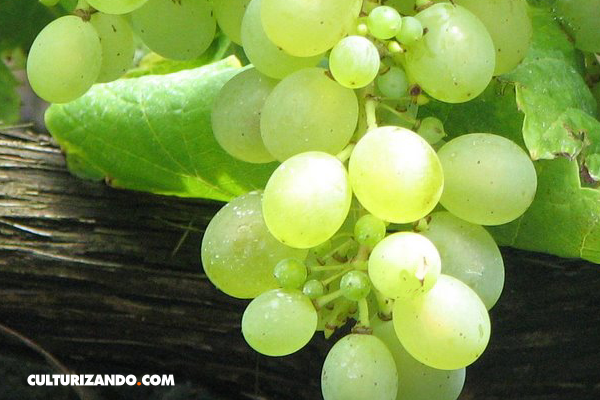Green grapes: (240, 12, 480, 400), (346, 130, 441, 223), (261, 150, 345, 250)
